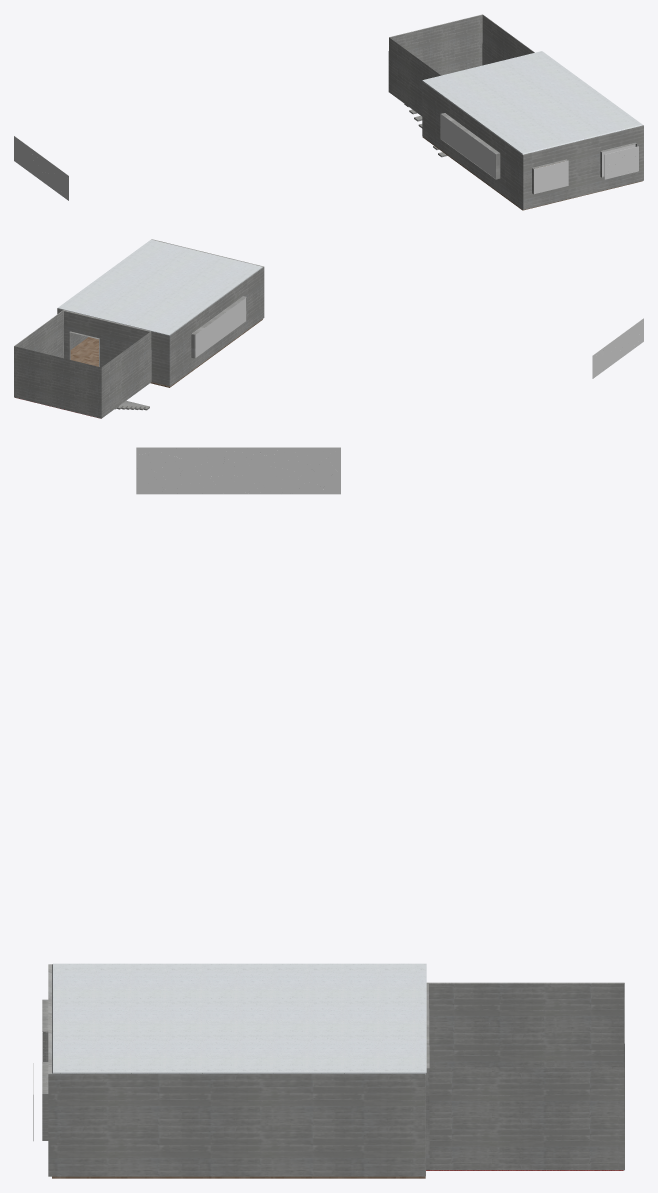
Rendered from Polished room.fbx.
The picture shows the model from 3 angles, top to bottom: view 1: azimuth 30°, elevation 25°; view 2: azimuth 150°, elevation 25°; view 3: azimuth 270°, elevation 25°; orthographic projection. The views are drawn at different scales.
Visible parts, largest first — view 1: Office cieling, Office walls, office wall 2, Window Large, Window Right; view 2: office wall 2, Office cieling, Office walls, Window Large, Office floor; view 3: Office cieling, Office walls, office wall 2, Office floor.
Part boxes in pixels (x1=…): Office cieling: x1=422, y1=51, x2=642, y2=154; Office walls: x1=422, y1=81, x2=643, y2=209; office wall 2: x1=388, y1=14, x2=534, y2=116; Window Large: x1=441, y1=114, x2=495, y2=178; Window Right: x1=533, y1=160, x2=568, y2=194; office wall 2: x1=14, y1=308, x2=169, y2=418; Office cieling: x1=57, y1=239, x2=262, y2=335; Office walls: x1=57, y1=239, x2=264, y2=386; Window Large: x1=194, y1=298, x2=245, y2=358; Office floor: x1=70, y1=319, x2=262, y2=387; Office cieling: x1=52, y1=963, x2=426, y2=1074; Office walls: x1=42, y1=964, x2=425, y2=1176; office wall 2: x1=425, y1=982, x2=624, y2=1176; Office floor: x1=52, y1=1176, x2=425, y2=1178.
Size of the model in its own units: 173 by 44.63 by 86.23.
